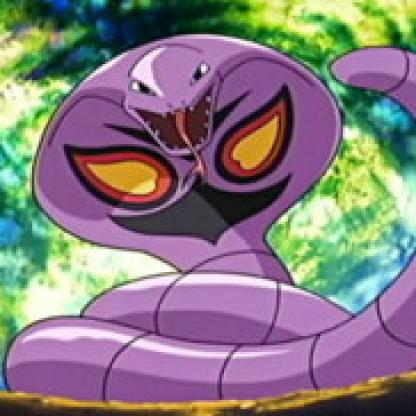Arbok: (31, 24, 415, 415)
